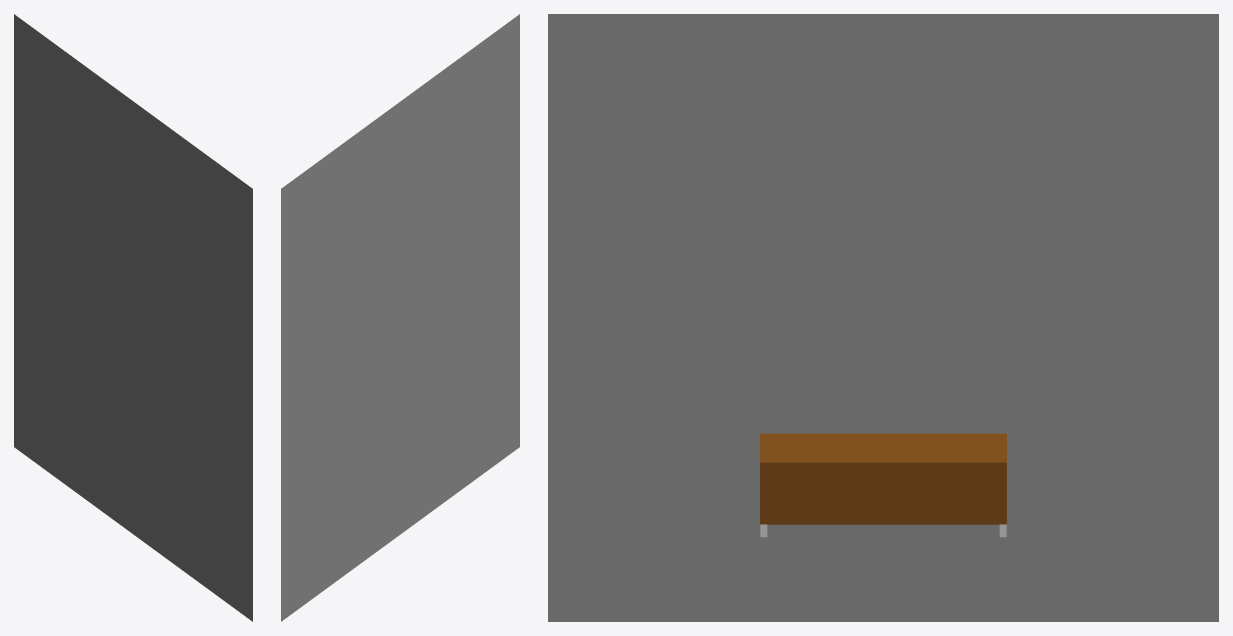
File: 3D_TO_WEBB.glb
The picture shows the model from 3 angles, left to right: view 1: azimuth 30°, elevation 25°; view 2: azimuth 150°, elevation 25°; view 3: azimuth 270°, elevation 25°; orthographic projection. The views are drawn at different scales.
Parts seen in each view (by area): view 1: Plane; view 2: Plane; view 3: Plane, Box_Tets.
Boxes of the visible parts, left/top/right/bottom form: Plane: left=14, top=14, right=252, bottom=621; Plane: left=281, top=14, right=519, bottom=621; Plane: left=548, top=14, right=1218, bottom=621; Box_Tets: left=760, top=433, right=1006, bottom=524.
Size of what is drawn, in the model's own units: 0.5802 by 4.89 by 4.89.
